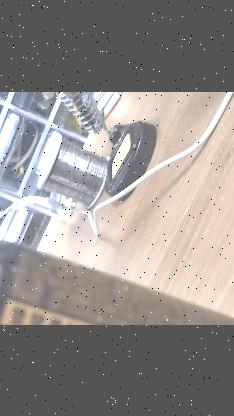Can: (0, 231, 234, 324)
